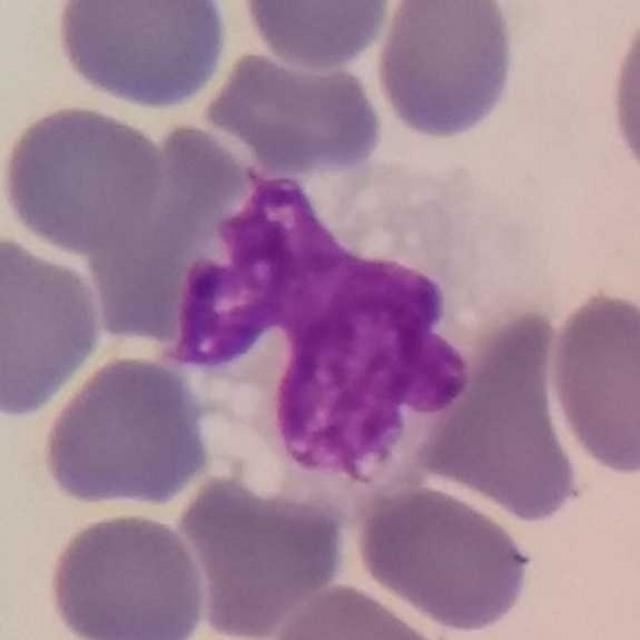mono: (171, 141, 548, 517)
